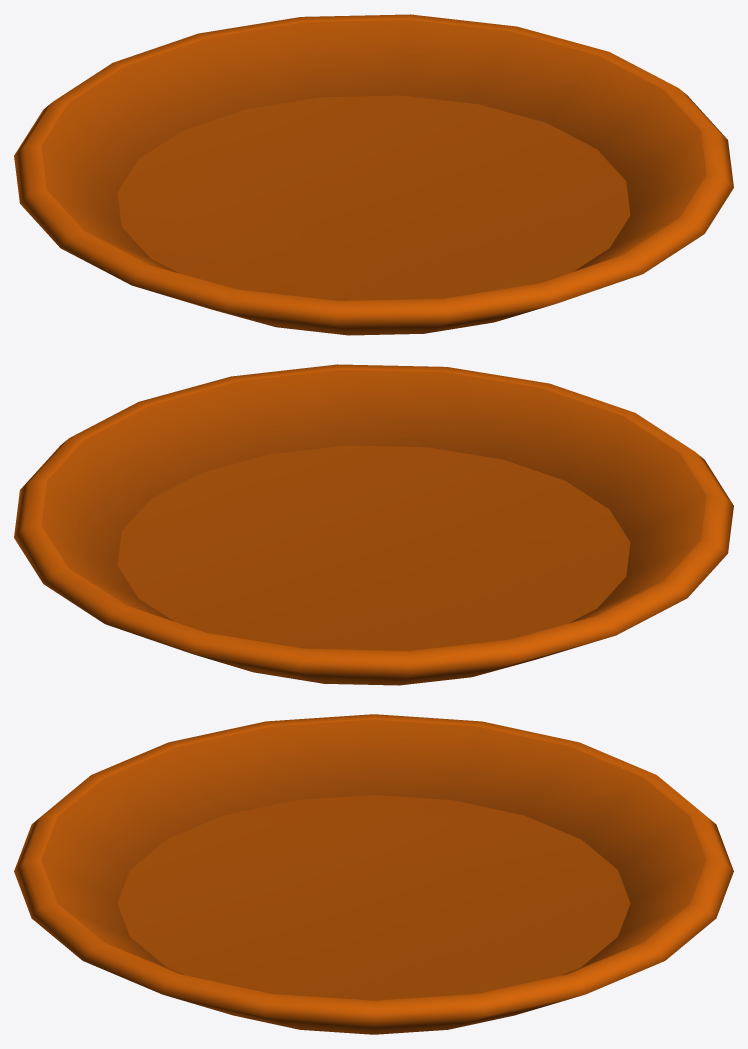
File: orange_plate.glb
3 views of the same model, one above another, from view 1: azimuth 30°, elevation 25°; view 2: azimuth 150°, elevation 25°; view 3: azimuth 270°, elevation 25° (orthographic).
Parts seen in each view (by area): view 1: SM_Dish_Av2; view 2: SM_Dish_Av2; view 3: SM_Dish_Av2.
Part boxes in pixels (x1=…): SM_Dish_Av2: x1=14, y1=14, x2=733, y2=335; SM_Dish_Av2: x1=14, y1=364, x2=733, y2=685; SM_Dish_Av2: x1=14, y1=714, x2=733, y2=1034.
Size of the model in its own units: 0.7473 by 0.084 by 0.7473.
Materials: 1 (1 with a texture image).
